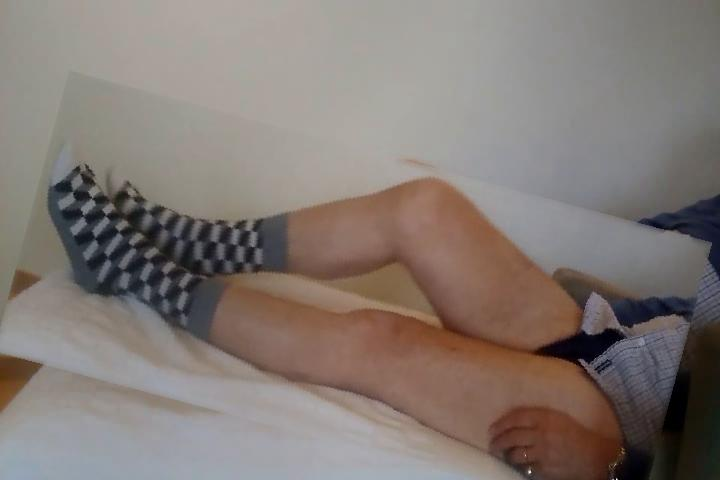lower_body: (8, 111, 700, 480)
